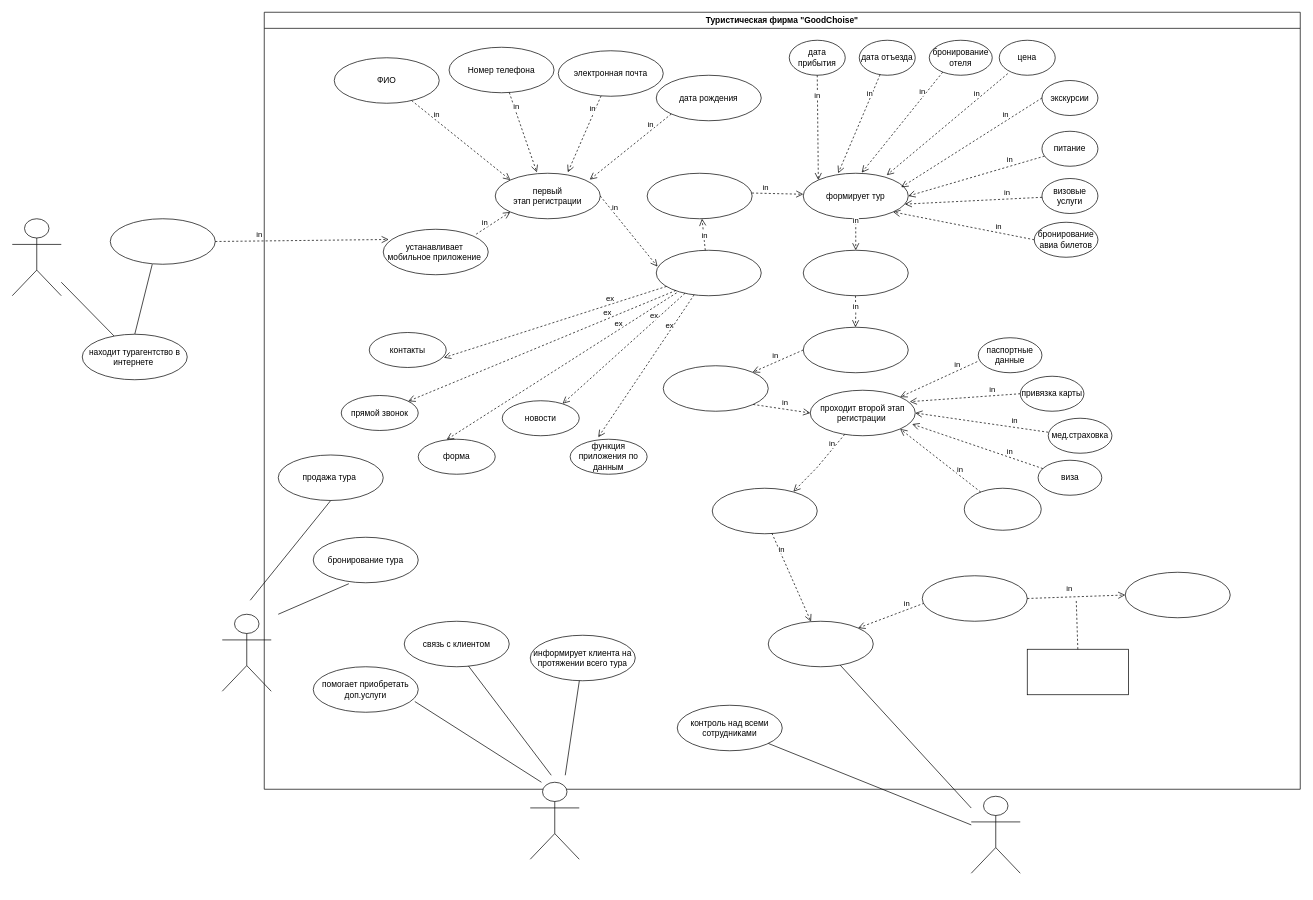
This 1313x900 diagram has some shape labels left out. The shapes that lost their labels are listed below. From the top down, each one's centre as x and y in pixels, then its label:
pixel 699 196: выбирает раздел фильтров
pixel 36 257: клиент
pixel 162 241: переходит на сайт турфирмы "АнексТур"
pixel 708 273: переходит к функциям приложения
pixel 855 273: через приложение связывается с менеджером
pixel 855 350: уточняет на счет всех выбранных услуг
pixel 715 388: запрос на бронирование тура
pixel 764 511: связывается с директором
pixel 1002 509: ваучер (вся информация по туру)
pixel 974 598: оплата
pixel 1177 595: получение чека и билета
pixel 246 652: турагент
pixel 820 644: заключение договора
pixel 1077 672: если банк принял платеж
pixel 554 820: менеджер
pixel 995 834: директор
